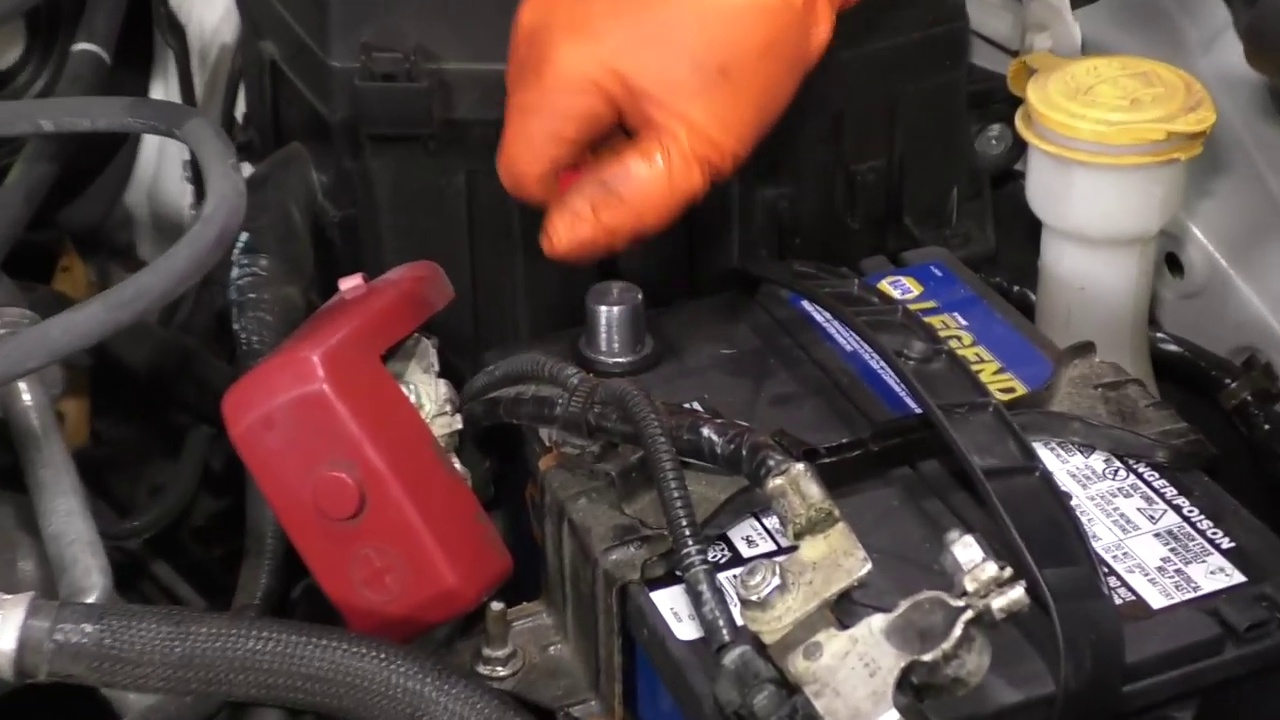battery: (459, 246, 1270, 710)
pos_disconnected: (242, 231, 674, 513)
